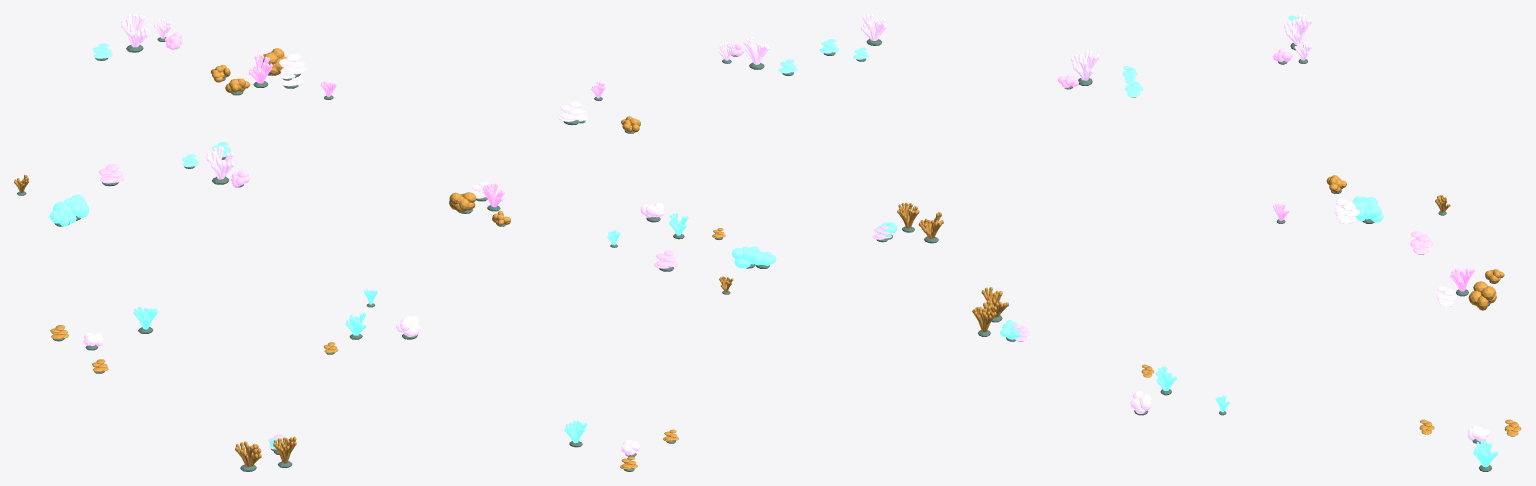
The model's file is coral_02.glb.
3 views of the same model, side by side, from view 1: azimuth 30°, elevation 25°; view 2: azimuth 150°, elevation 25°; view 3: azimuth 270°, elevation 25° (orthographic). The views are drawn at different scales.
Visible parts, largest first — view 1: coral_02; view 2: coral_02; view 3: coral_02.
Boxes of the visible parts, box(x1,y1,x2,y2) form: coral_02: box(14, 14, 420, 471); coral_02: box(449, 14, 943, 471); coral_02: box(972, 14, 1521, 471).
Size of the model in its own units: 46.8 by 60.96 by 75.16.
